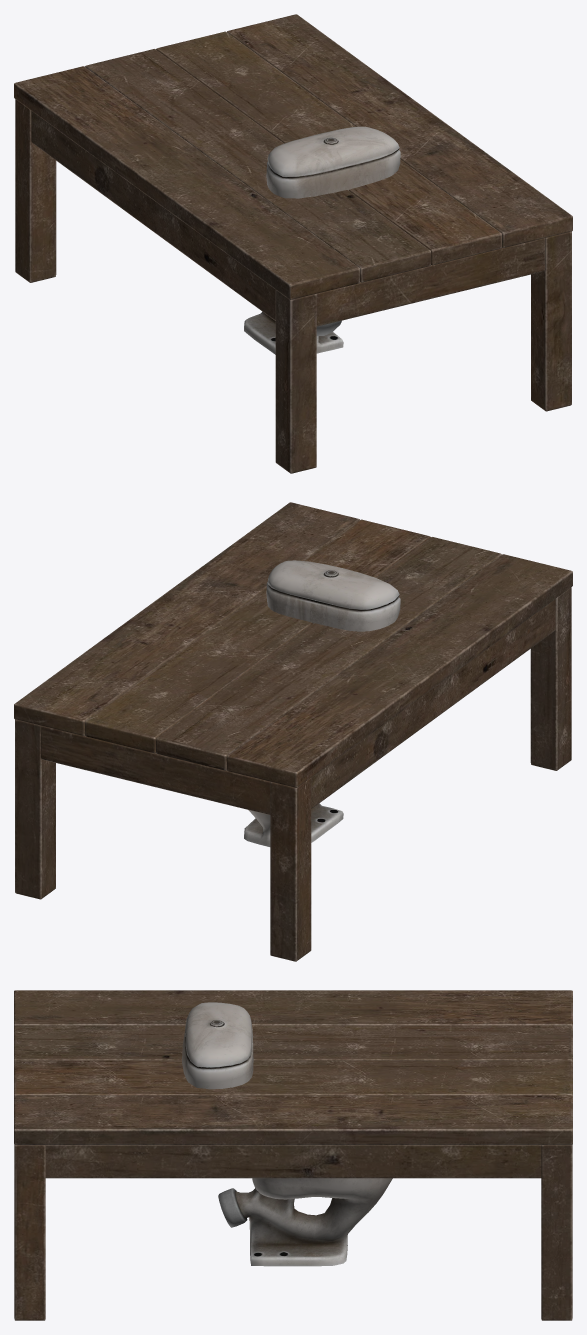
Rendered from uploaded-props.glb.
3 views of the same model, one above another, from view 1: azimuth 30°, elevation 25°; view 2: azimuth 150°, elevation 25°; view 3: azimuth 270°, elevation 25° (orthographic).
Parts seen in each view (by area): view 1: Object_2 (×2); view 2: Object_2 (×2); view 3: Object_2 (×2).
Part boxes in pixels (x1,y1,x2,y2): Object_2 (×2): (14,14,572,473); Object_2 (×2): (14,502,572,961); Object_2 (×2): (14,990,572,1320).
Size of the model in its own units: 1.28 by 0.98 by 2.16.
Materials: 3 (3 with a texture image).
